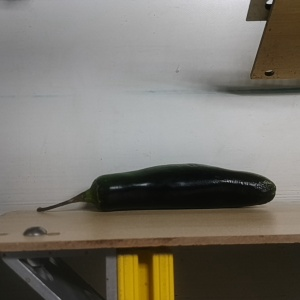Cut Point: (81, 174, 114, 213)
